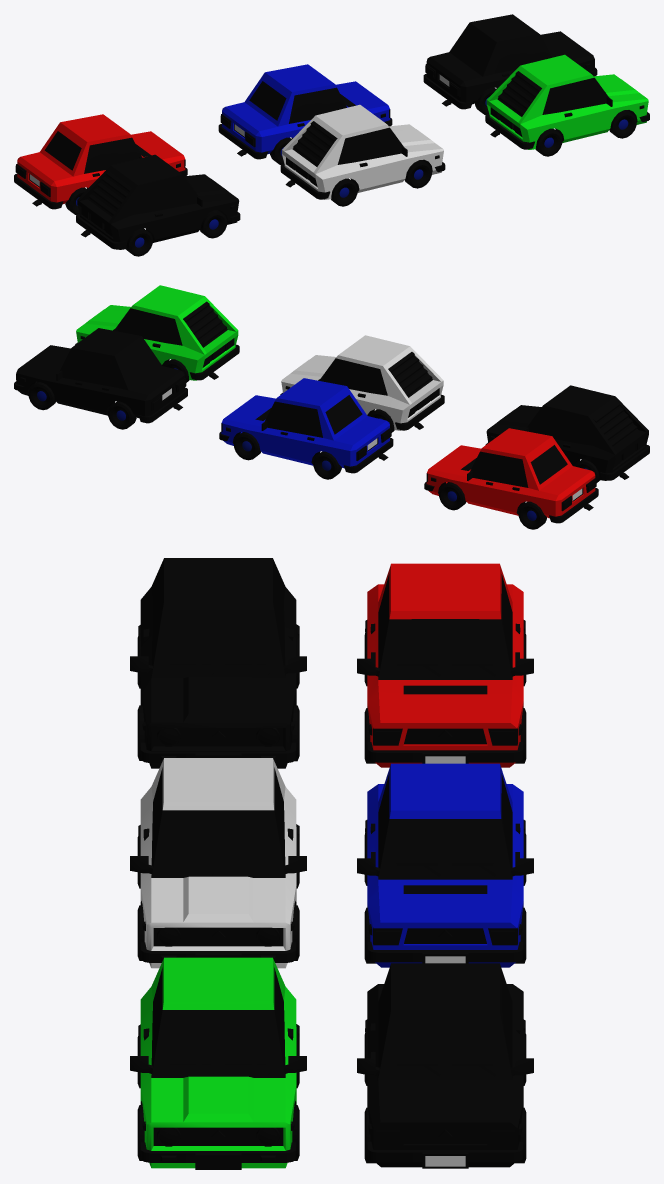
Rendered from Cars.fbx.
3 views of the same model, one above another, from view 1: azimuth 30°, elevation 25°; view 2: azimuth 150°, elevation 25°; view 3: azimuth 270°, elevation 25° (orthographic). The views are drawn at different scales.
Parts seen in each view (by area): view 1: HatchbackWhite, HatchbackGreen, HatchbackOrange, SedanYellow, SedanBlue, SedanRed; view 2: SedanBlue, SedanRed, SedanYellow, HatchbackWhite, HatchbackGreen, HatchbackOrange; view 3: HatchbackGreen, SedanYellow, SedanBlue, SedanRed, HatchbackOrange, HatchbackWhite.
Boxes of the visible parts, bbox=[...] form: HatchbackWhite: bbox=[280, 104, 445, 206]; HatchbackGreen: bbox=[485, 54, 649, 156]; HatchbackOrange: bbox=[76, 154, 240, 256]; SedanYellow: bbox=[423, 14, 597, 114]; SedanBlue: bbox=[218, 64, 392, 164]; SedanRed: bbox=[14, 114, 187, 214]; SedanBlue: bbox=[219, 378, 393, 479]; SedanRed: bbox=[424, 428, 598, 529]; SedanYellow: bbox=[14, 328, 187, 429]; HatchbackWhite: bbox=[280, 335, 444, 432]; HatchbackGreen: bbox=[75, 285, 239, 382]; HatchbackOrange: bbox=[485, 385, 649, 482]; HatchbackGreen: bbox=[130, 957, 306, 1169]; SedanYellow: bbox=[357, 963, 533, 1168]; SedanBlue: bbox=[357, 763, 533, 967]; SedanRed: bbox=[357, 563, 533, 767]; HatchbackOrange: bbox=[130, 558, 306, 768]; HatchbackWhite: bbox=[130, 758, 306, 968].
Bounding box in the file's own units: 2712 × 306 × 854.
